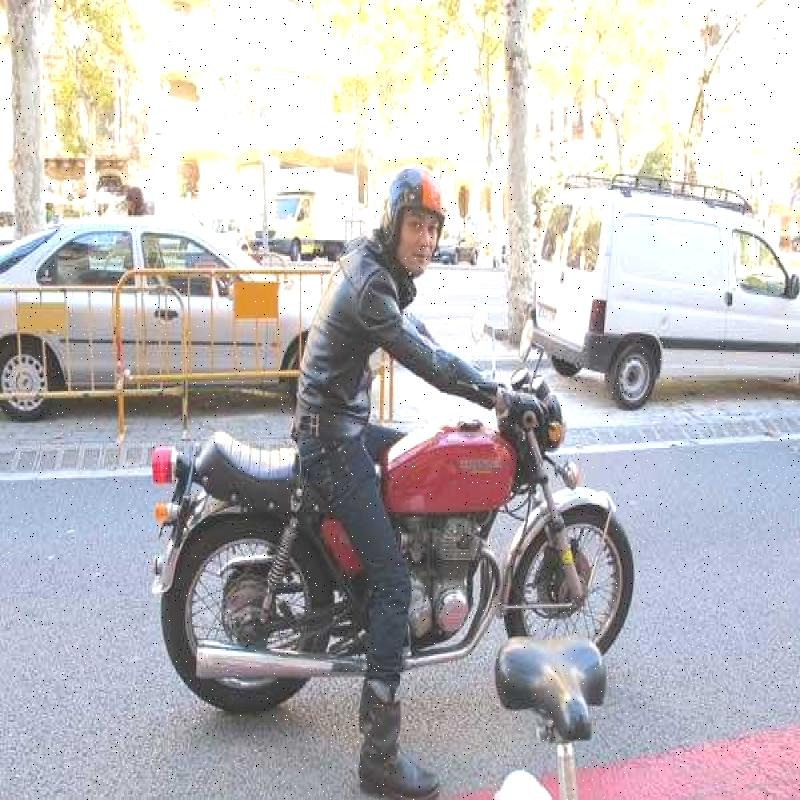bike: (132, 275, 646, 674)
